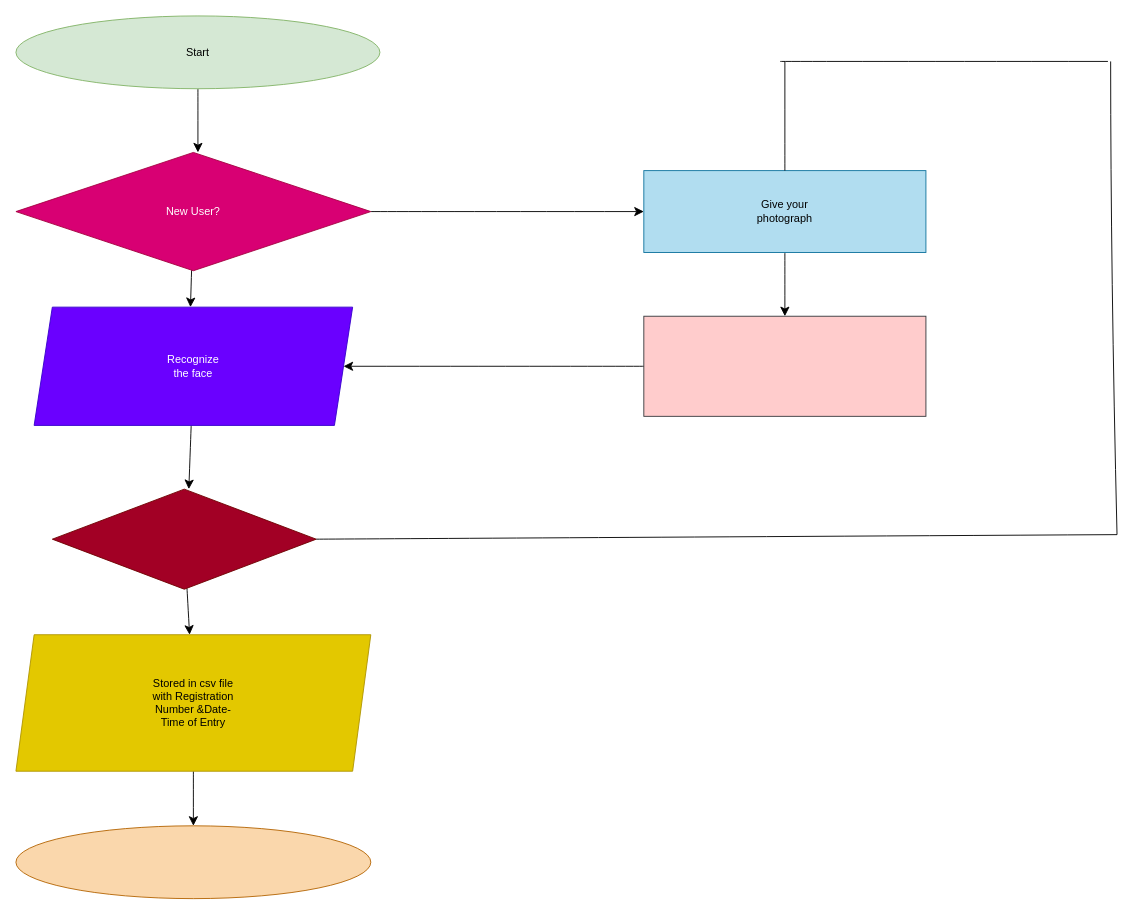
Image size: 1133x915. Some labels were removed from this diagram. The shapes that lost their labels are listed below. From the top down, each one's centre as x and y in pixels, then its label:
At pixel 784 365: "stored the face data in folder on your name".
At pixel 183 538: "Face Recognized".
At pixel 193 862: "End".
